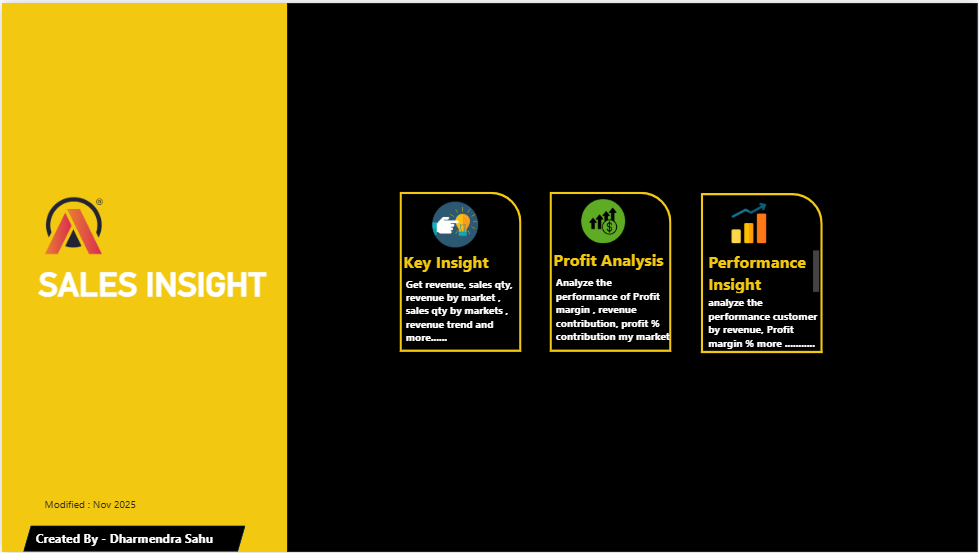

The dashboard page shown, as its layout file describes it:
{"tool":"powerbi","page":{"name":"Home","canvas":[1280,720],"ordinal":0},"visuals":[{"type":"shape","box":[374.3,0,905.7,720],"z":0},{"type":"shape","box":[27.1,685.7,291.4,34.3],"z":1000},{"type":"textbox","box":[38.6,685.7,268.6,34.3],"z":2000},{"type":"textbox","box":[50,642.9,268.6,32.9],"z":3000},{"type":"shape","box":[521.4,247.1,160,210],"z":4000},{"type":"shape","box":[718.6,247.1,160,210],"z":5000},{"type":"shape","box":[917.1,248.6,160,210],"z":6000},{"type":"textbox","box":[521.4,320,160,42.9],"z":7000},{"type":"textbox","box":[718.6,317.1,168.6,42.9],"z":8000},{"type":"textbox","box":[921.4,320,155.7,65.7],"z":9000},{"type":"textbox","box":[0,338.6,394.3,78.6],"z":10000},{"type":"textbox","box":[524.3,354.3,160,101.4],"z":11000},{"type":"textbox","box":[721.4,352.9,160,101.4],"z":12000},{"type":"textbox","box":[921.4,378.6,160,101.4],"z":13000},{"type":"image","box":[50,244.3,88.6,94.3],"z":14000},{"type":"image","box":[554.3,255.7,75.7,70],"z":15000},{"type":"image","box":[751.4,252.9,75.7,67.1],"z":16000},{"type":"image","box":[944.3,257.1,70,62.9],"z":17000}]}

Visuals, with their boxes in screenshot pixels (x1, y1, x2, y2), scaled from the page's 1280x720 canvas onto the 979x553 screenshot:
shape: [286,0,978,552]
shape: [21,527,244,552]
textbox: [30,527,235,552]
textbox: [38,494,244,519]
shape: [399,190,521,351]
shape: [550,190,672,351]
shape: [701,191,824,352]
textbox: [399,246,521,279]
textbox: [550,244,679,276]
textbox: [705,246,824,296]
textbox: [0,260,302,320]
textbox: [401,272,523,350]
textbox: [552,271,674,349]
textbox: [705,291,827,369]
image: [38,188,106,260]
image: [424,196,482,250]
image: [575,194,633,246]
image: [722,197,776,246]
